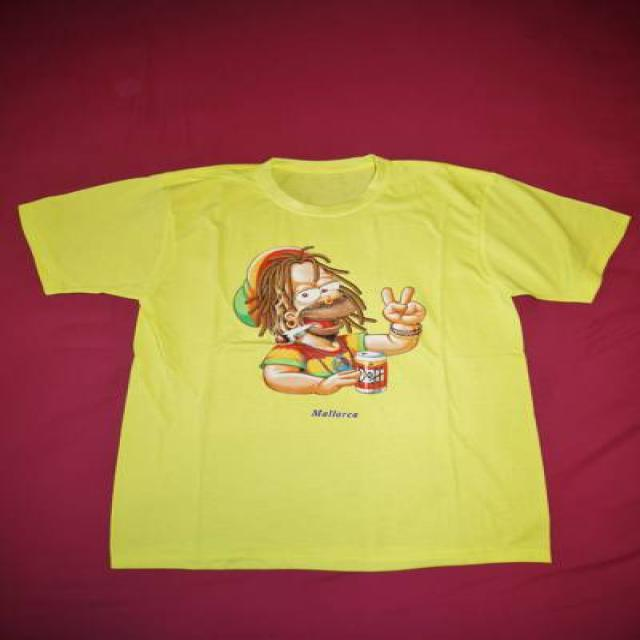shirt: (18, 151, 630, 572)
